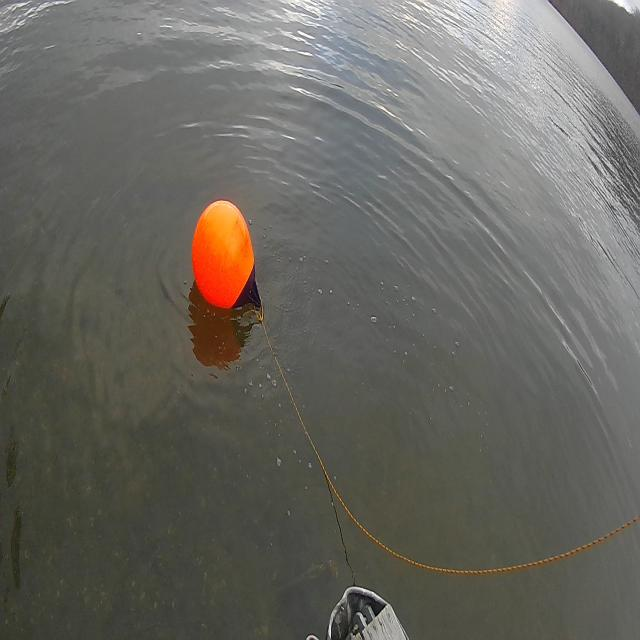Buoy: (182, 177, 279, 338)
